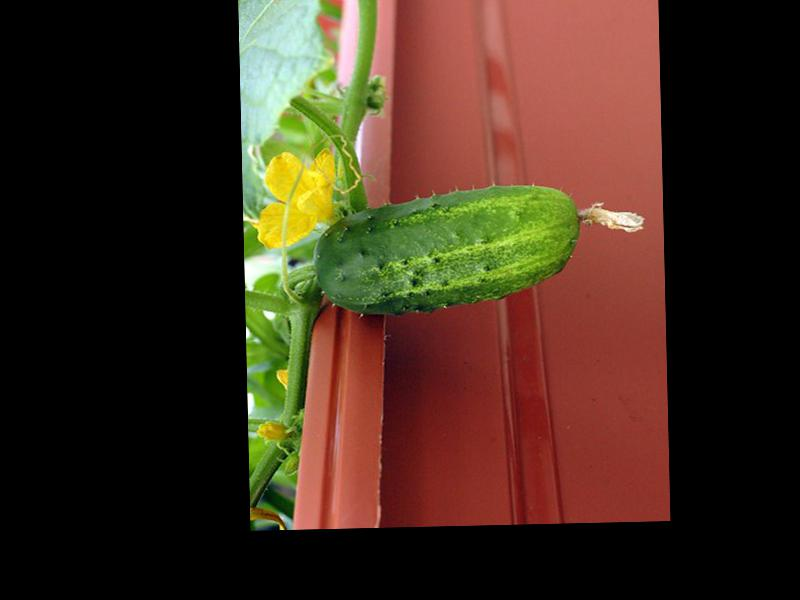Cucumber: (311, 181, 648, 315)
